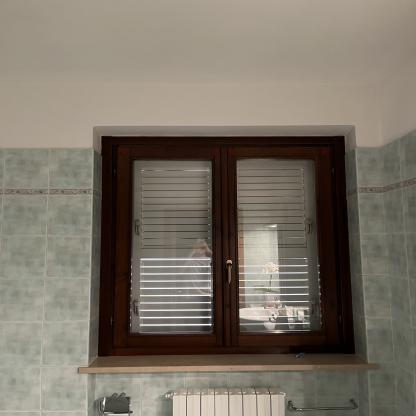Window: (100, 137, 350, 355)
